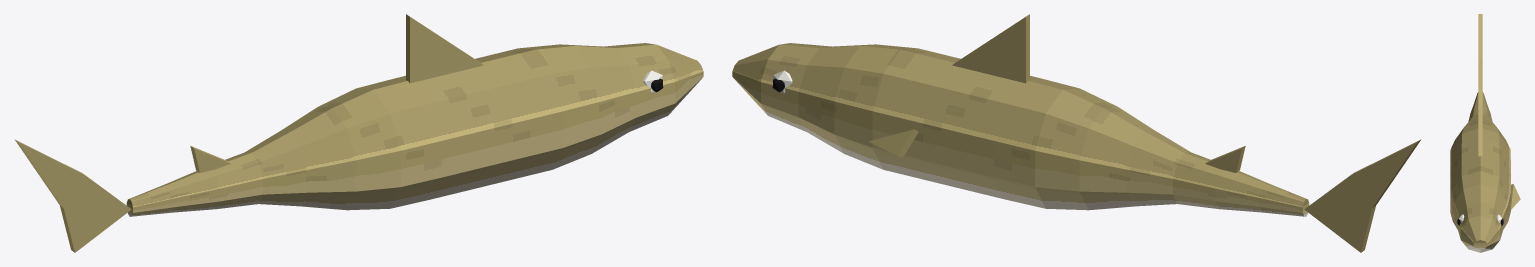
File: lemon_shark.glb
The picture shows the model from 3 angles, left to right: view 1: azimuth 30°, elevation 25°; view 2: azimuth 150°, elevation 25°; view 3: azimuth 270°, elevation 25°; orthographic projection. The views are drawn at different scales.
Visible parts, largest first — view 1: fish_lemon_shark; view 2: fish_lemon_shark; view 3: fish_lemon_shark.
Part boxes in pixels (x1,y1,x2,y2): fish_lemon_shark: (14,14,703,252); fish_lemon_shark: (732,14,1421,252); fish_lemon_shark: (1450,14,1520,252).
Size of the model in its own units: 1.2 by 0.31 by 0.1993.
Materials: 4 (1 with a texture image).
